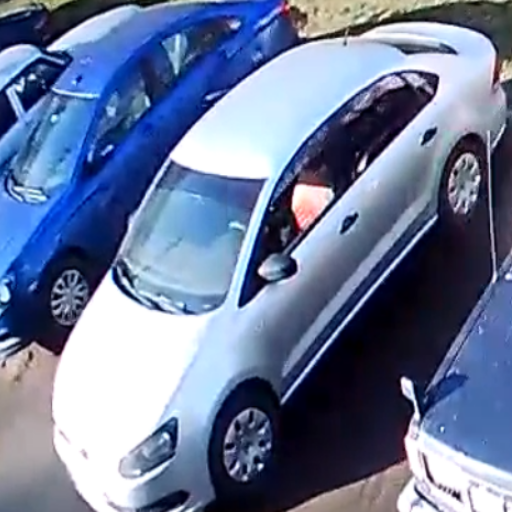Car: (49, 18, 507, 511), (0, 6, 289, 337)
